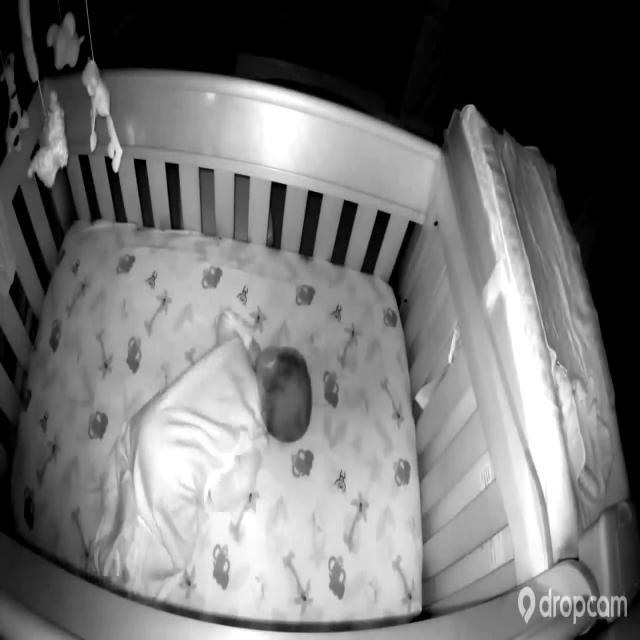baby: (98, 304, 311, 595)
